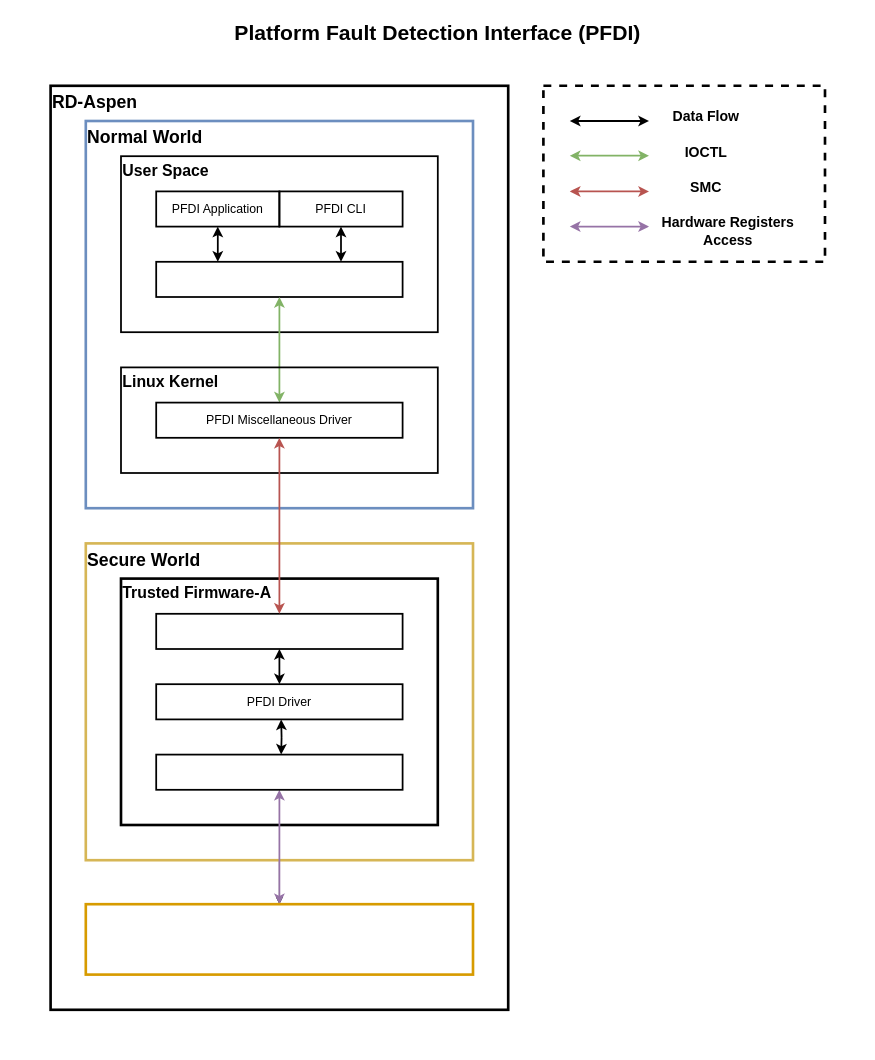
This 875x1060 diagram has some shape labels left out. The centre of each missing label's shape, as x and y in pixels:
"PFDI Library" goes at (x=279, y=278).
"Platform Firmware" goes at (x=279, y=771).
"Secure Monitor Call (SMC) Handler" goes at (x=279, y=630).
"Software Built-In Self Test (SBIST) Controller" goes at (x=279, y=938).
